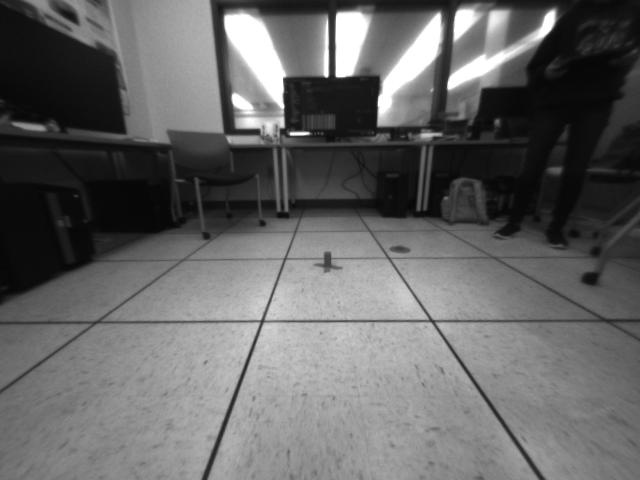X: (312, 251, 344, 274)
